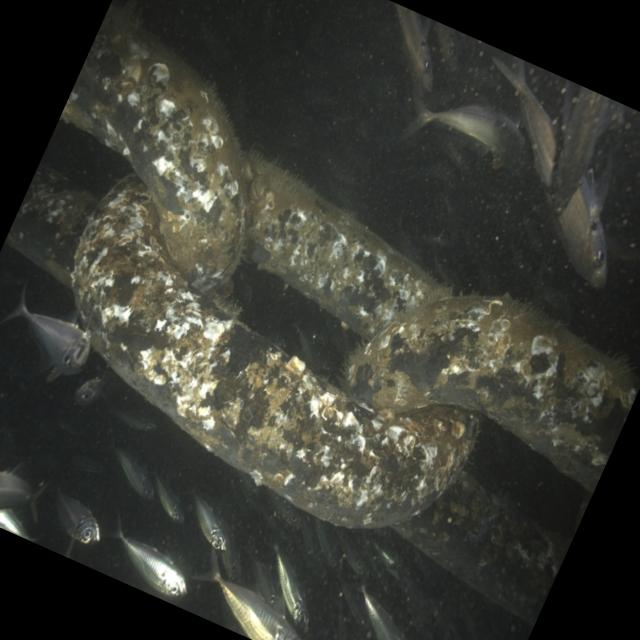ChainLink: (72, 179, 476, 528), (347, 296, 640, 492), (60, 5, 246, 291), (246, 158, 445, 337), (397, 473, 571, 623), (6, 169, 96, 285)
